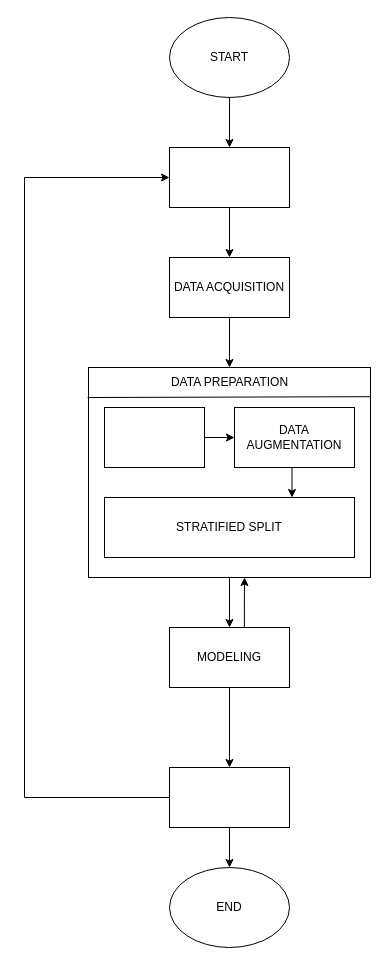
This 389x965 diagram has some shape labels left out. The centre of each missing label's shape, as x and y in pixels:
BUSINESS UNDERSTANSING: [229,177]
DATA CLEANING: [154,437]
EVALUATION: [229,797]
